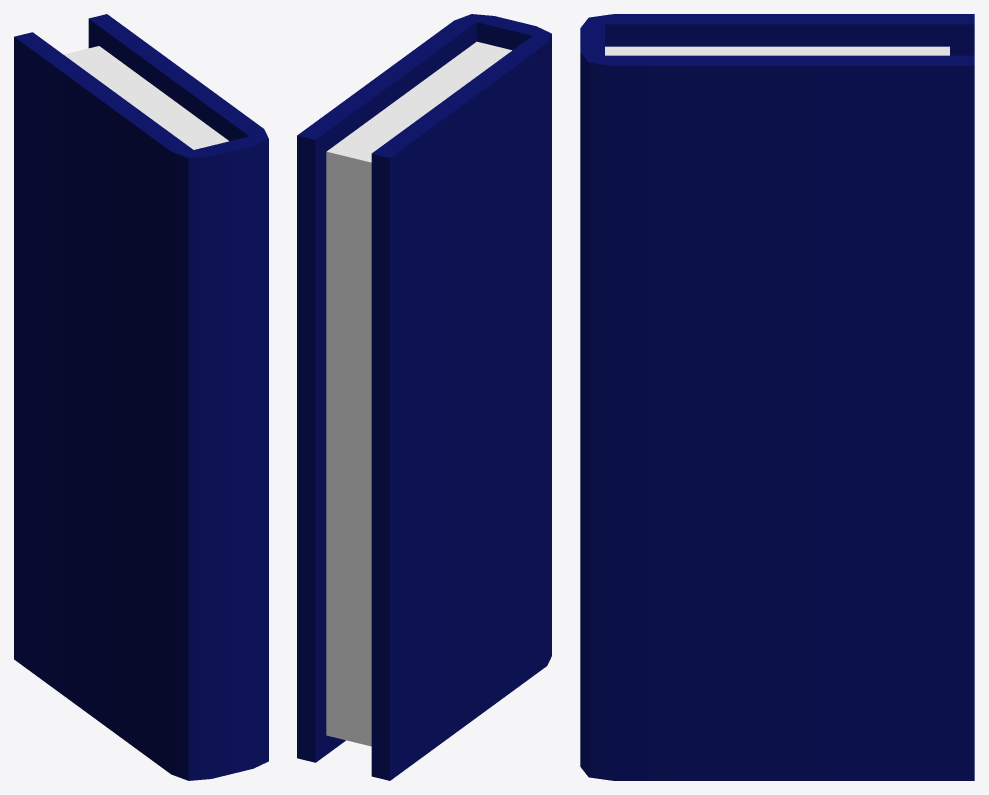
The model's file is BOOK - BLUE.fbx.
3 views of the same model, side by side, from view 1: azimuth 30°, elevation 25°; view 2: azimuth 150°, elevation 25°; view 3: azimuth 270°, elevation 25° (orthographic). The views are drawn at different scales.
Parts seen in each view (by area): view 1: Box001, Object; view 2: Box001, Object; view 3: Box001, Object.
Boxes of the visible parts, bbox=[...] form: Box001: bbox=[14, 14, 268, 780]; Object: bbox=[64, 46, 228, 149]; Box001: bbox=[297, 14, 551, 780]; Object: bbox=[326, 41, 511, 746]; Box001: bbox=[580, 14, 974, 780]; Object: bbox=[605, 46, 949, 55].
Bounding box in the file's own units: 5 × 32 × 16.
